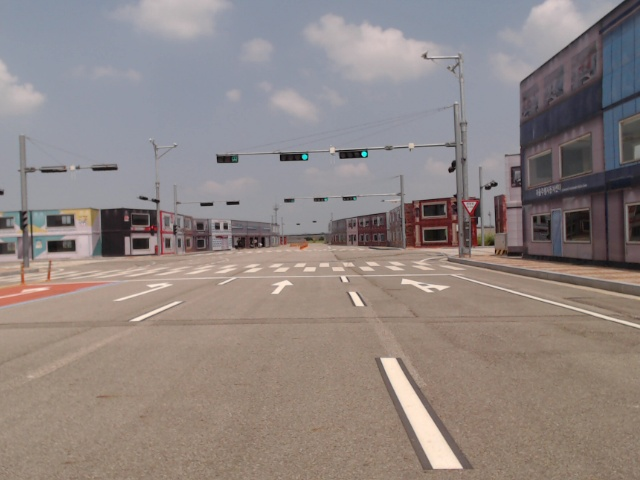straight_green_4: (279, 151, 308, 161), (338, 149, 367, 159), (342, 195, 357, 201), (314, 197, 328, 201)
